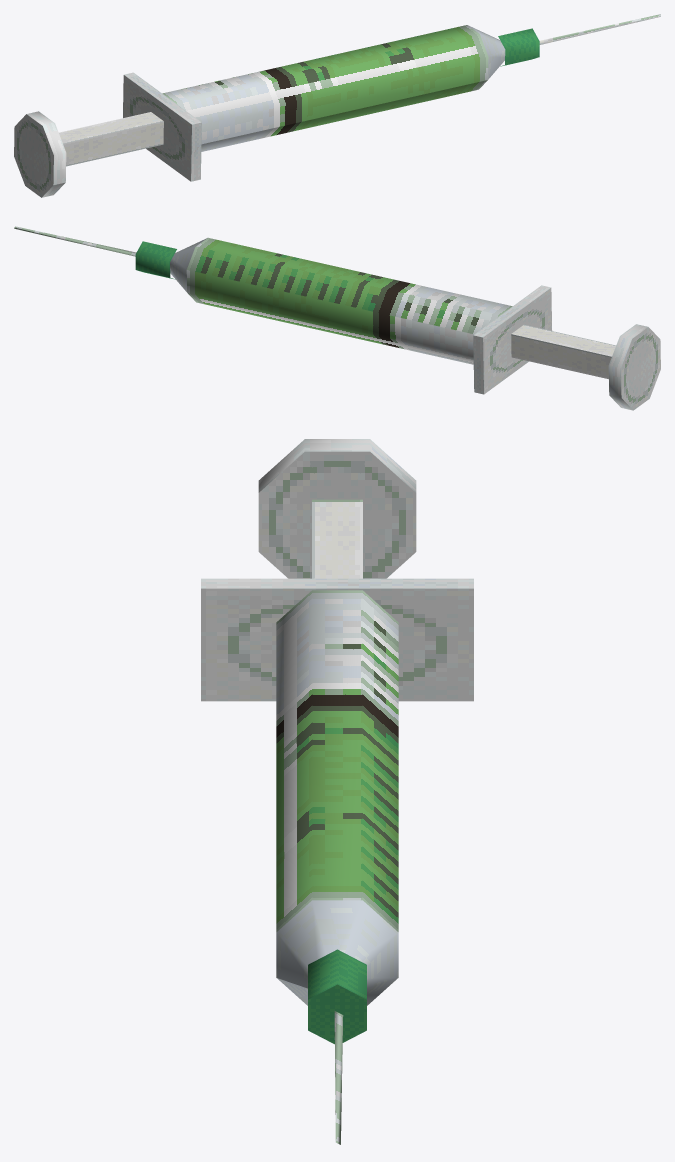
The model's file is syringe.glb.
3 renders of one model, top to bottom at view 1: azimuth 30°, elevation 25°; view 2: azimuth 150°, elevation 25°; view 3: azimuth 270°, elevation 25°, orthographic. The views are drawn at different scales.
Parts seen in each view (by area): view 1: syringe; view 2: syringe; view 3: syringe.
Boxes of the visible parts, box(x1,y1,x2,y2) form: syringe: box(14, 14, 660, 197); syringe: box(14, 226, 660, 410); syringe: box(201, 439, 473, 1144).
Size of the model in its own units: 0.1271 by 0.0139 by 0.024.
1 material, 1 textured.
